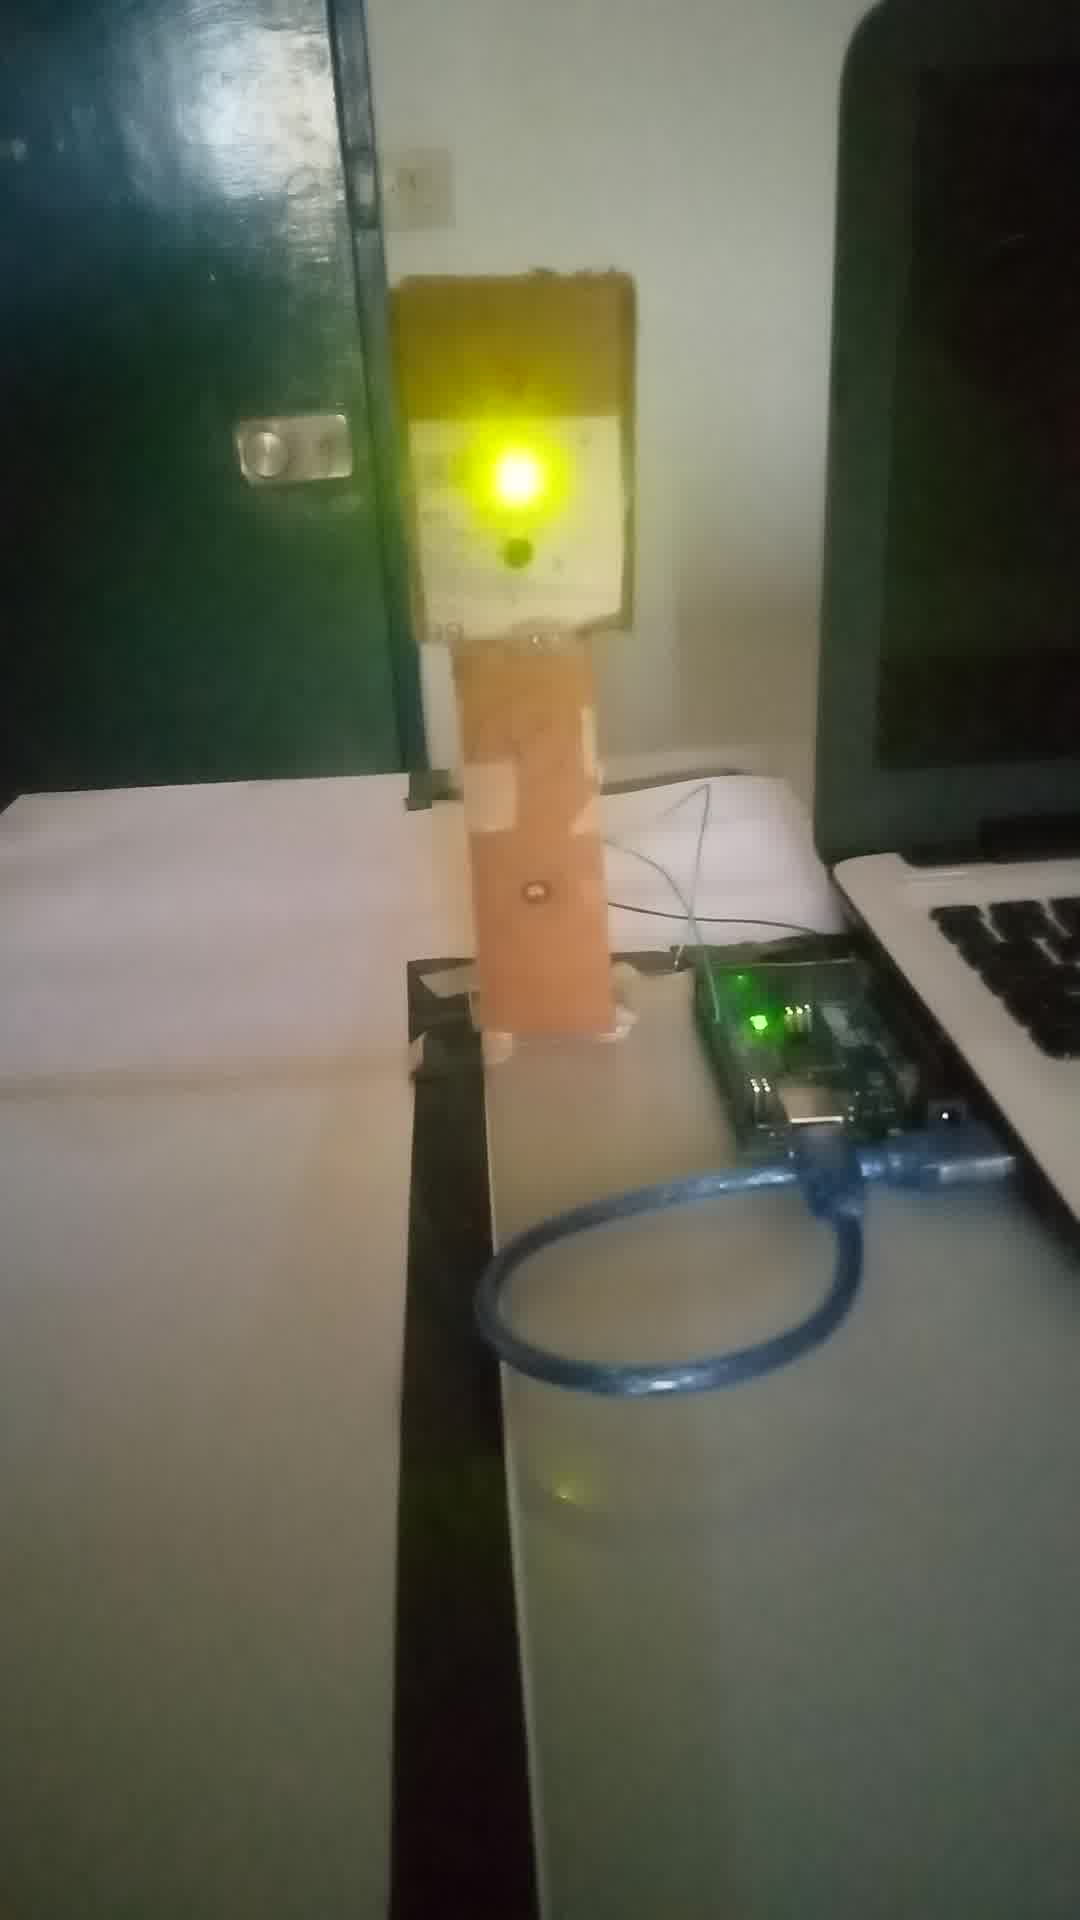yellow: (398, 269, 621, 629)
